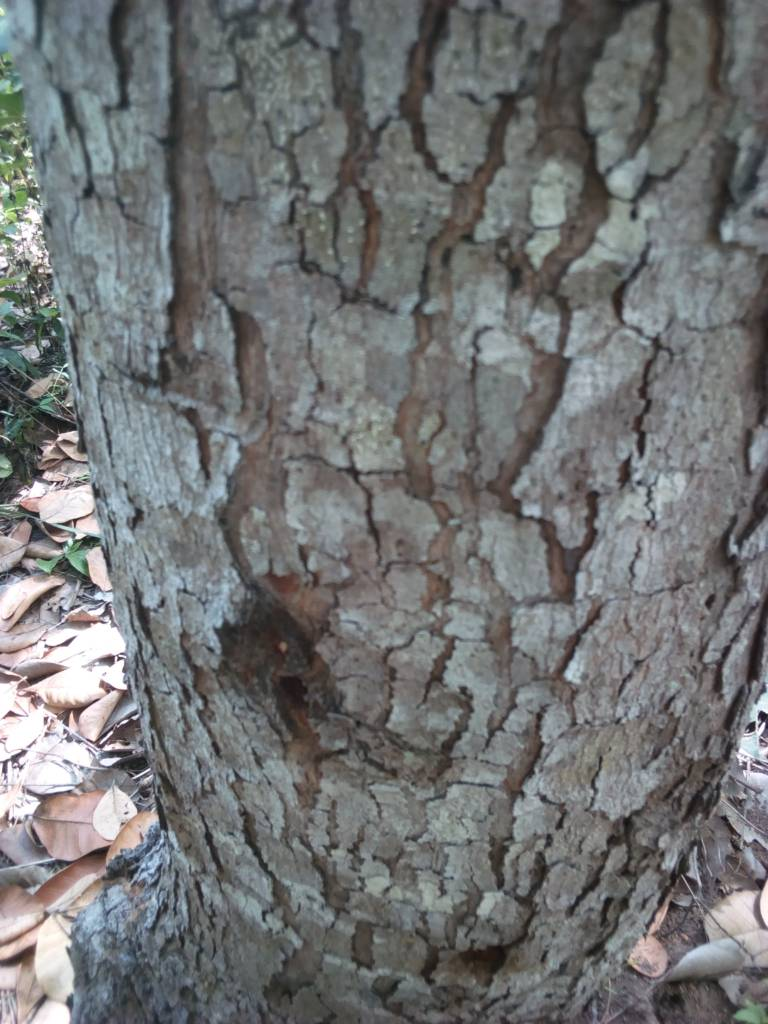Apate terebrans: (257, 669, 340, 724)
